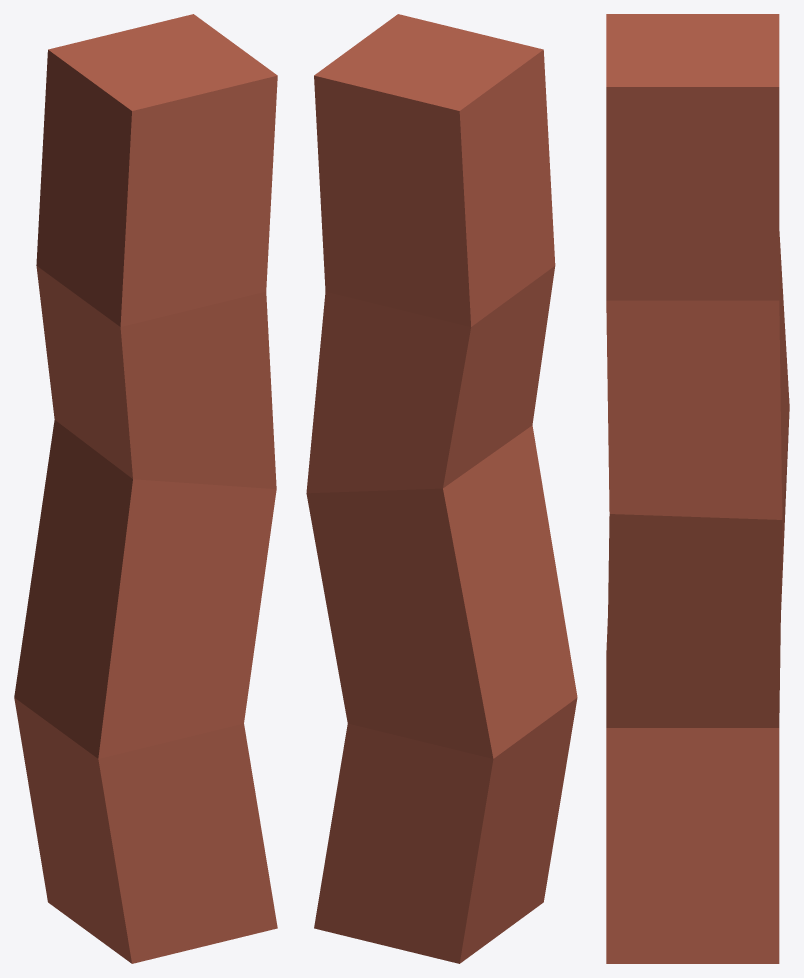
The model's file is wood_4b.fbx.
3 views of the same model, side by side, from view 1: azimuth 30°, elevation 25°; view 2: azimuth 150°, elevation 25°; view 3: azimuth 270°, elevation 25° (orthographic). The views are drawn at different scales.
Visible parts, largest first — view 1: wood_4b; view 2: wood_4b; view 3: wood_4b.
Part boxes in pixels (x1,y1,x2,y2): wood_4b: (14, 14, 277, 963); wood_4b: (306, 14, 577, 963); wood_4b: (606, 14, 789, 963).
Size of the model in its own units: 47.19 by 207 by 39.3.
